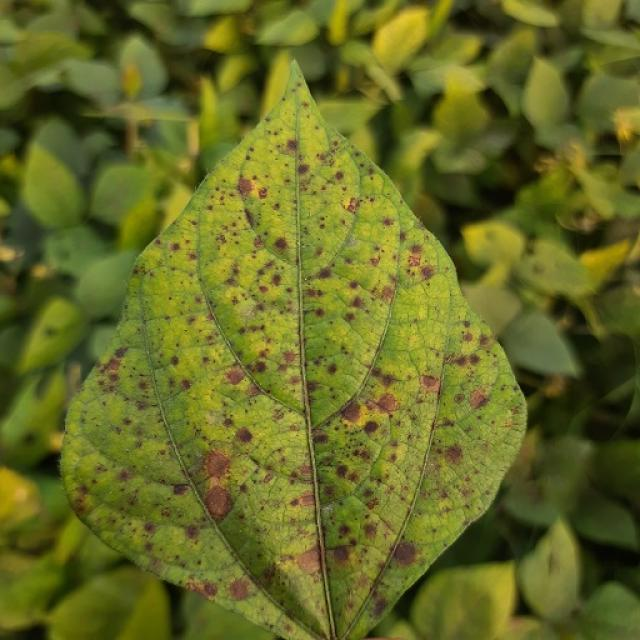Anthracnose: (325, 497, 373, 548), (192, 449, 236, 479), (203, 484, 232, 520), (202, 450, 231, 482), (295, 547, 322, 574), (391, 540, 418, 565), (340, 402, 364, 425), (236, 301, 259, 324), (229, 578, 251, 600), (375, 392, 398, 412), (289, 491, 316, 508), (189, 581, 214, 599), (469, 388, 489, 410), (419, 373, 441, 393), (443, 444, 463, 465), (329, 544, 350, 563), (372, 596, 389, 618), (235, 426, 254, 445), (225, 367, 245, 385), (237, 177, 255, 197), (243, 206, 258, 229), (408, 245, 424, 266), (363, 419, 380, 435), (184, 524, 200, 540), (344, 197, 359, 213), (172, 482, 190, 495), (311, 432, 329, 445), (316, 267, 333, 280), (420, 265, 435, 279), (117, 468, 132, 482), (273, 237, 289, 250), (381, 286, 394, 300), (283, 351, 297, 364), (285, 140, 298, 153), (254, 361, 267, 373), (143, 521, 156, 533), (270, 274, 282, 286), (257, 187, 268, 199), (180, 379, 192, 390), (298, 163, 310, 174), (253, 237, 264, 248), (370, 255, 381, 266), (327, 364, 338, 375), (382, 217, 394, 227), (334, 171, 344, 181), (464, 332, 474, 342), (170, 242, 180, 252), (170, 356, 179, 366), (349, 281, 359, 289), (259, 285, 268, 293), (295, 254, 301, 266)
Blackgram: (62, 64, 525, 639)
